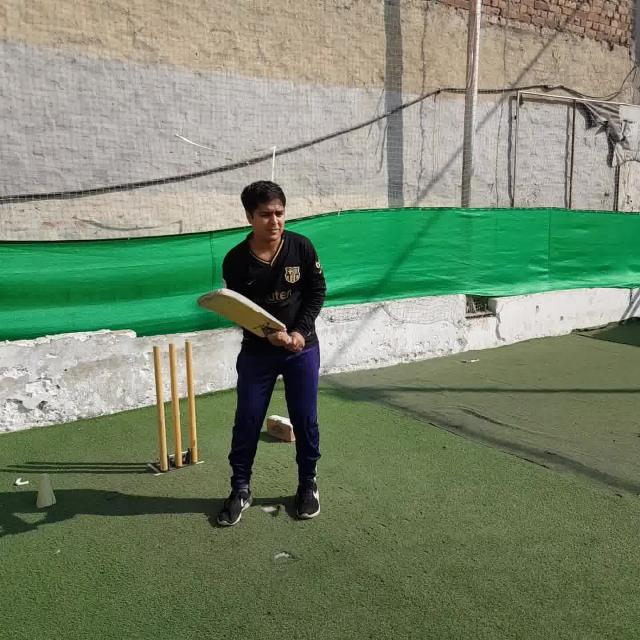bat: (199, 288, 305, 349)
